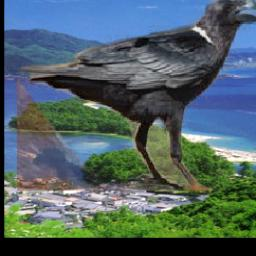Crow: (18, 0, 256, 192)
